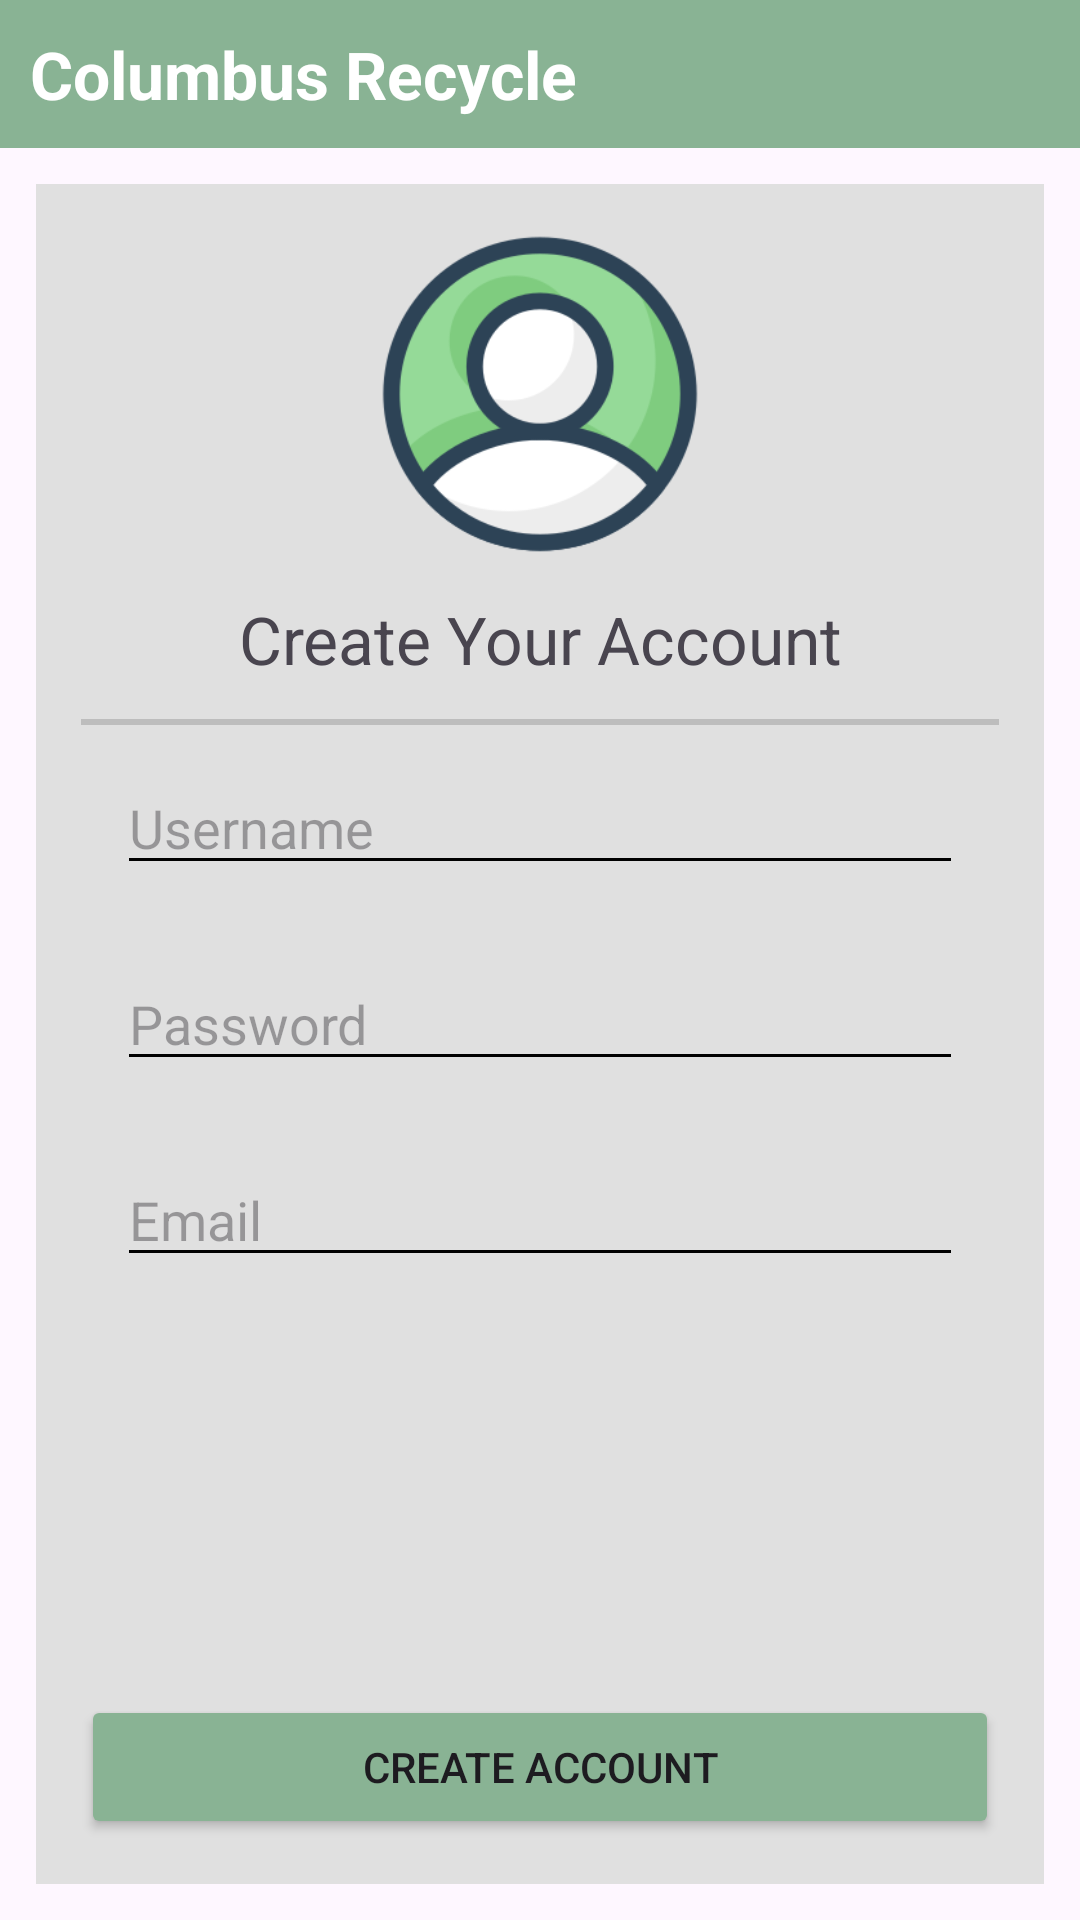

Icon click points for this 1080w x 1920h phone screenshot, format (x,y):
user: (540,394)
